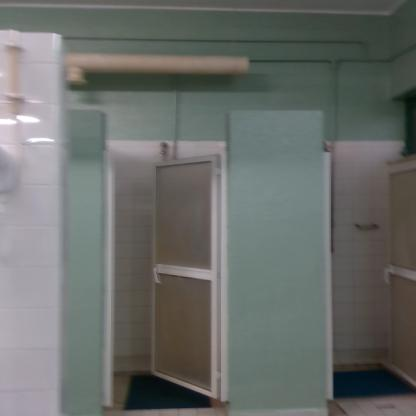open: (315, 136, 416, 409)
semi: (92, 119, 242, 416)
